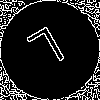L: (25, 25, 72, 79)
